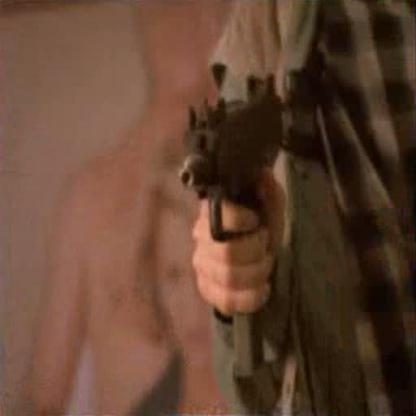Gun: (176, 69, 290, 384)
